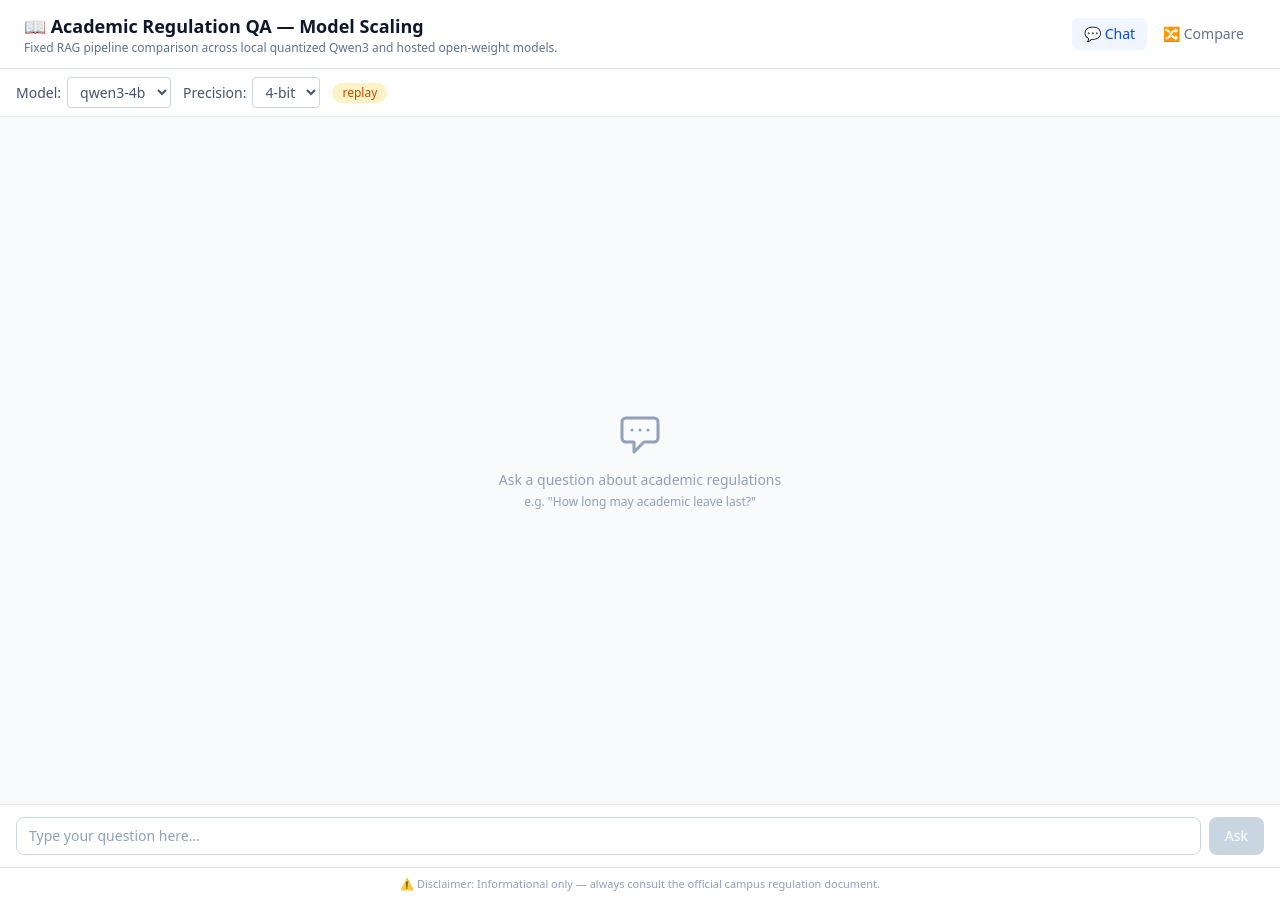
Test case: App shell › switches to compare page when Compare tab is clicked
What coordinates should you click on to do the following:
click the button "🔀 Compare"
I would click on:
 (1204, 34)
Its box is [1151,18,1256,50].
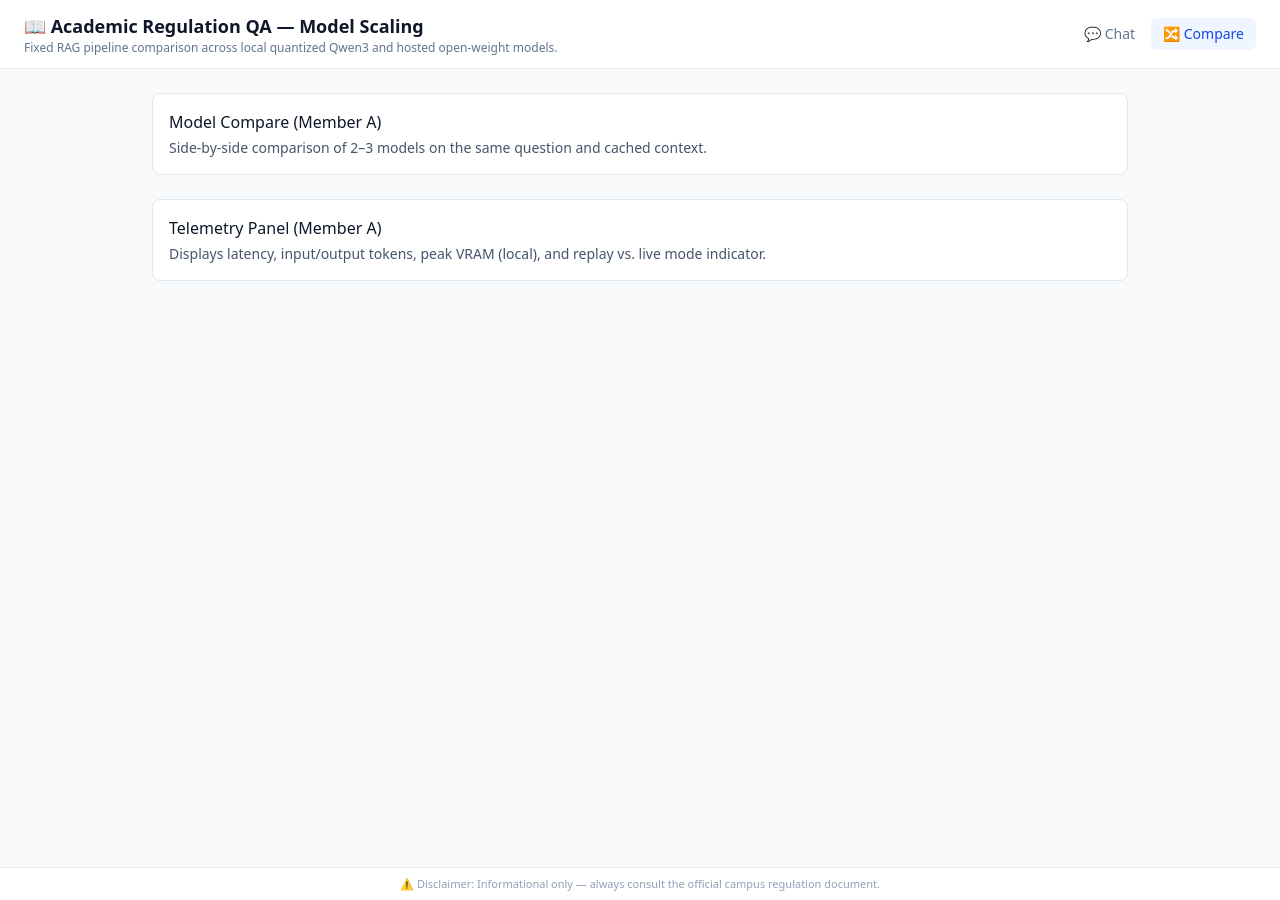
Check: the heading "Model Compare (Member A)" is shown, box [169,111,381,133]
